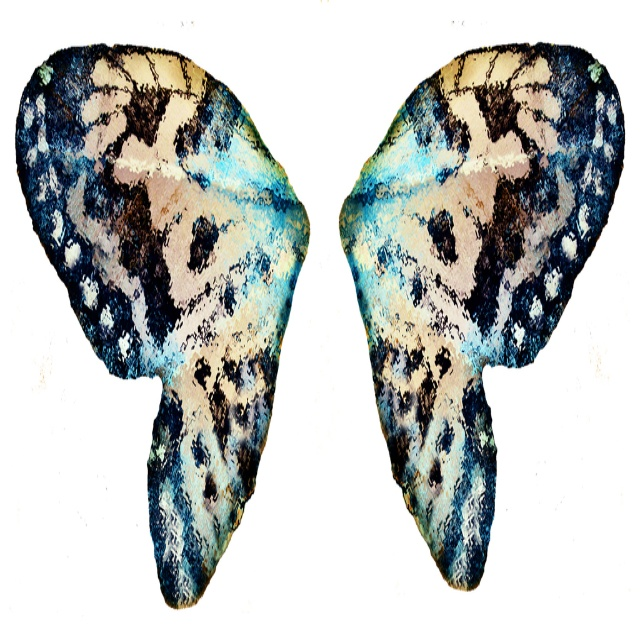Butterfly: (12, 33, 627, 617)
